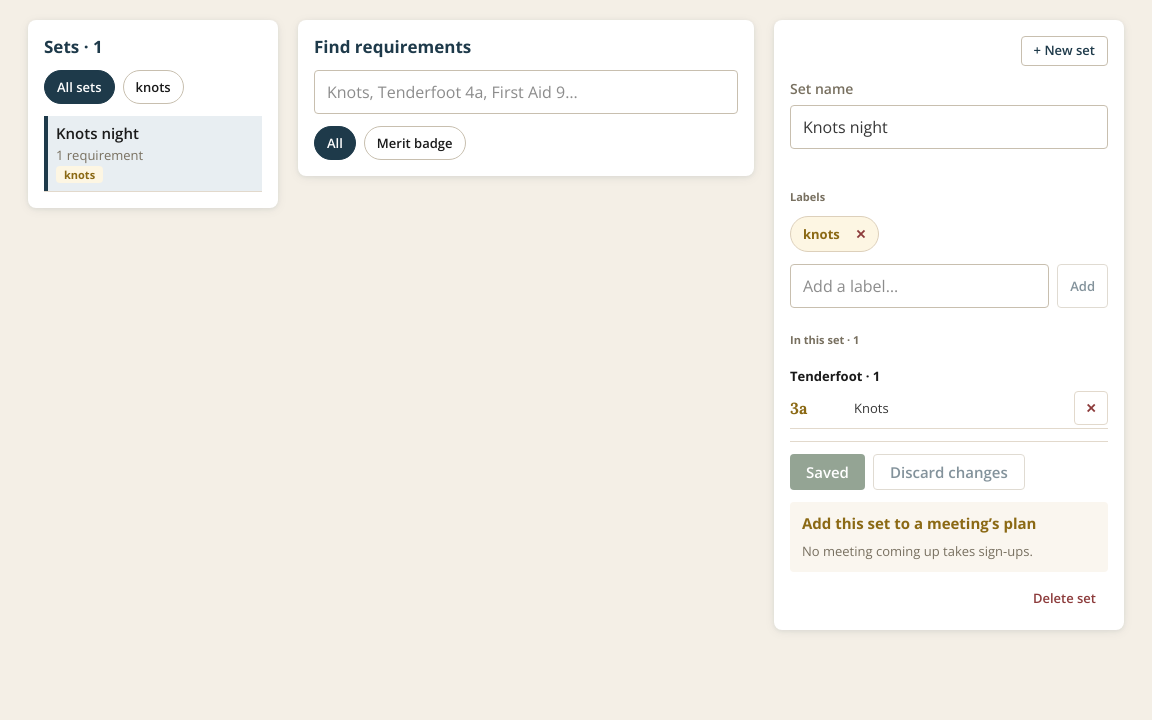
focus sets: + New set › Seeder_NewSet_OpensAnEmptySetToCreate
Click the button "+ New set": (1064, 51) [1021,36,1108,66]
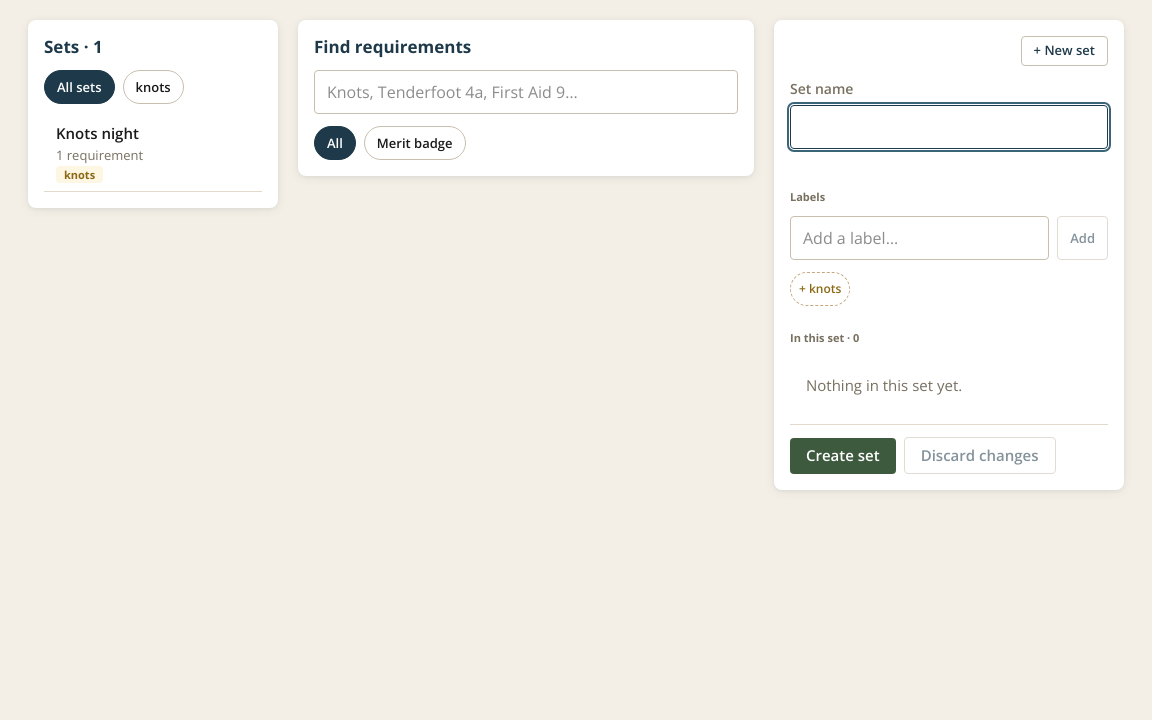
Check: the button "Create set" is shown, box [790,438,896,474]
